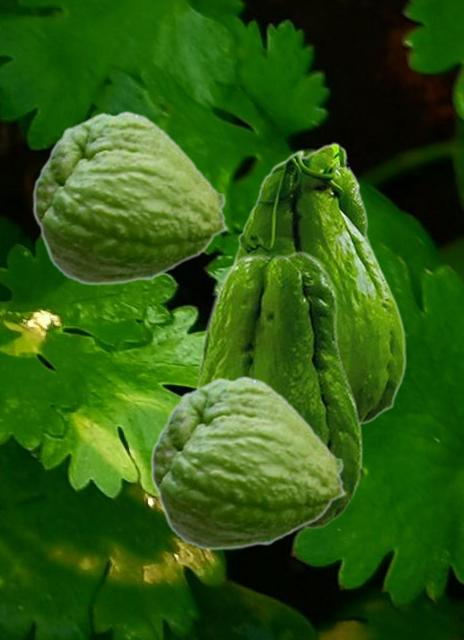sayote: (230, 142, 406, 427), (192, 250, 362, 536), (32, 110, 229, 285), (150, 375, 347, 550)
